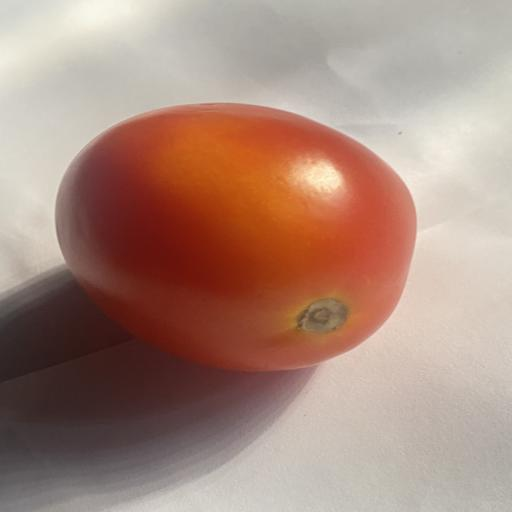ripe: (56, 103, 416, 370)
